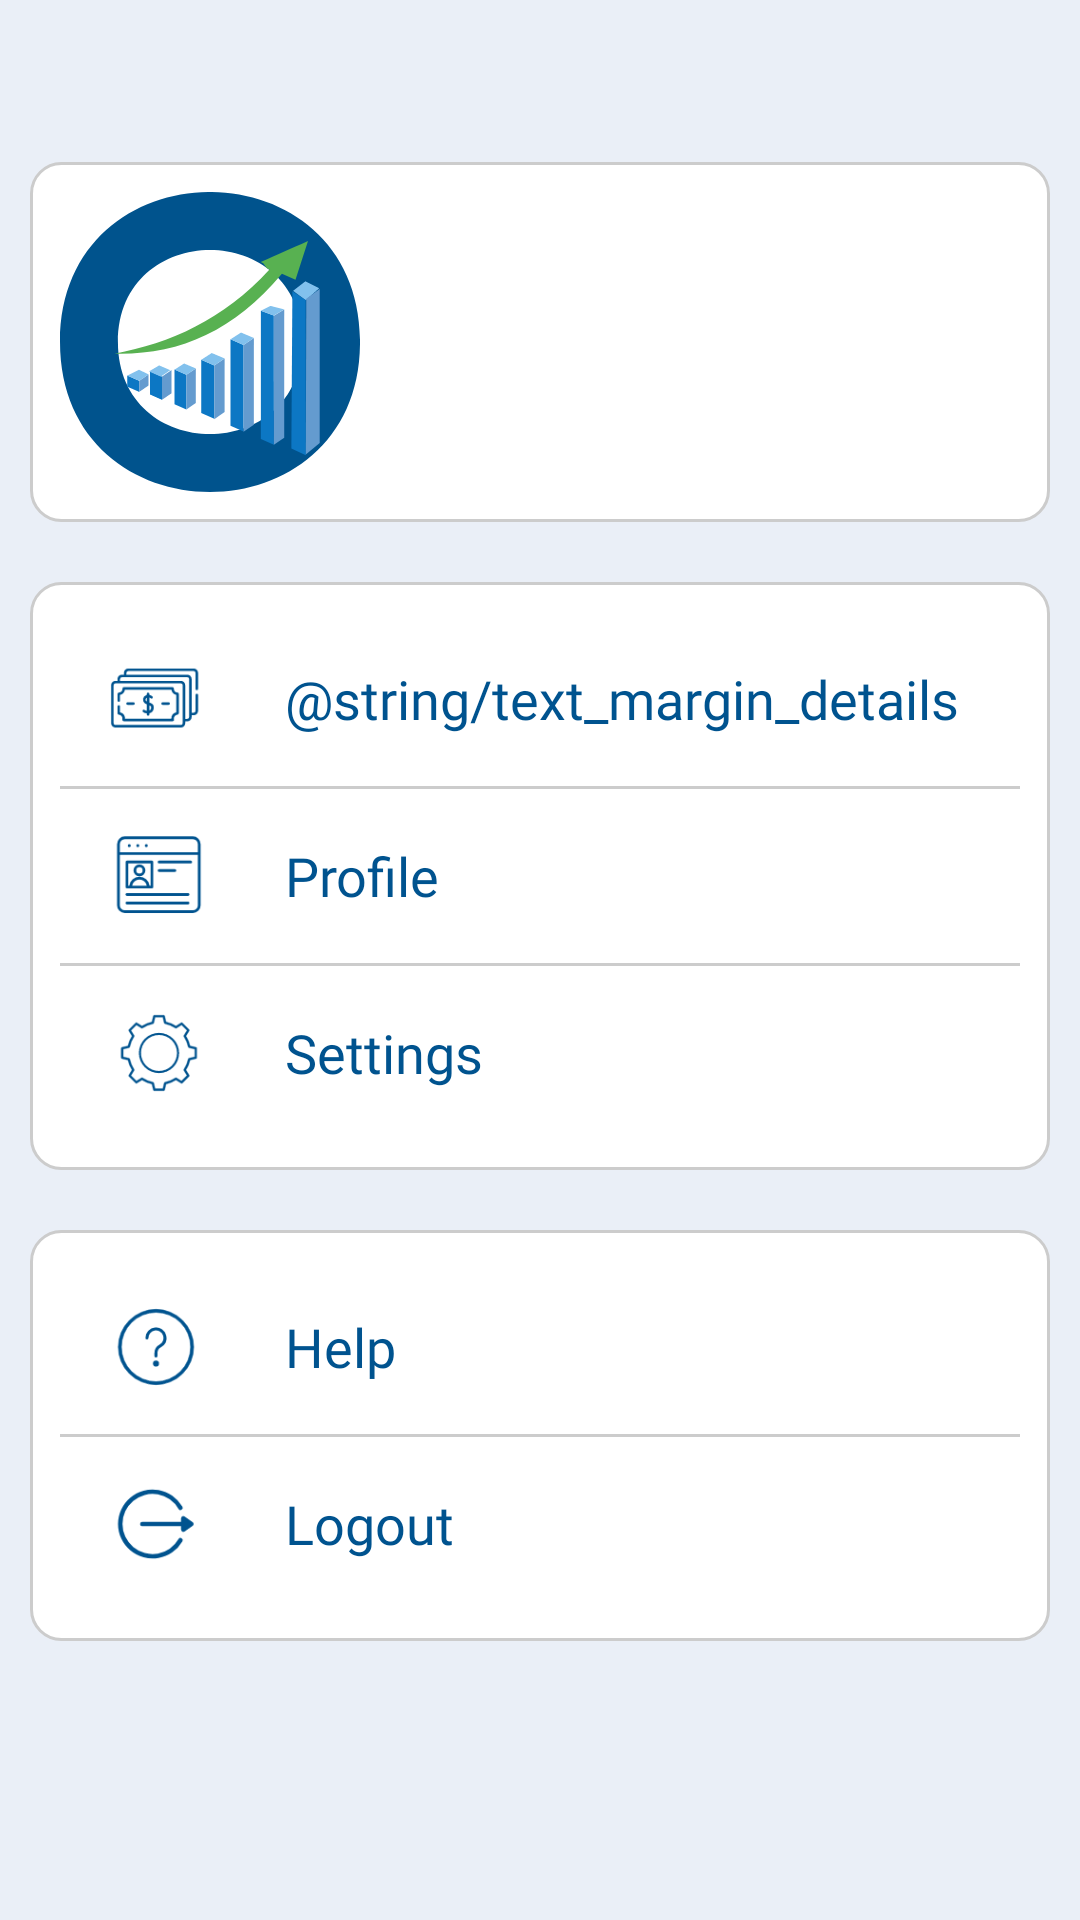

Screen size 1080 x 1920. Icon name, then its center in pixels as [x,y]:
funds: [155,698]
